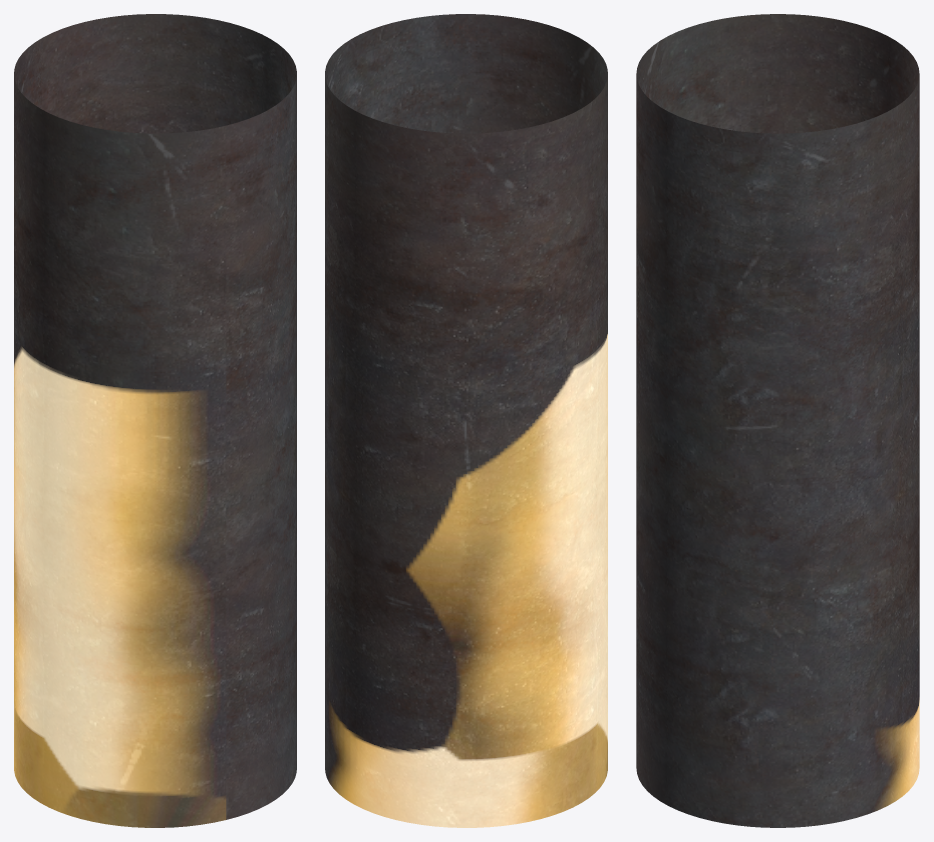
File: SM_LargePipe_straight_01.fbx
The picture shows the model from 3 angles, left to right: view 1: azimuth 30°, elevation 25°; view 2: azimuth 150°, elevation 25°; view 3: azimuth 270°, elevation 25°; orthographic projection.
Parts seen in each view (by area): view 1: SM_LargePipe_straight_01_LOD0; view 2: SM_LargePipe_straight_01_LOD0; view 3: SM_LargePipe_straight_01_LOD0.
Part boxes in pixels (bbox=[...]): SM_LargePipe_straight_01_LOD0: bbox=[14, 14, 296, 827]; SM_LargePipe_straight_01_LOD0: bbox=[325, 14, 607, 827]; SM_LargePipe_straight_01_LOD0: bbox=[636, 14, 919, 827].
Bounding box in the file's own units: 67.42 × 67.42 × 182.
